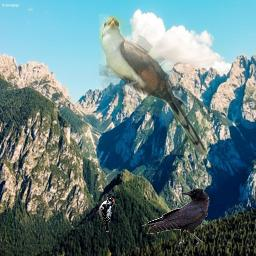Crow: (141, 188, 210, 247)
Cuckoo: (99, 14, 209, 155)
Woodpecker: (98, 196, 115, 232)
